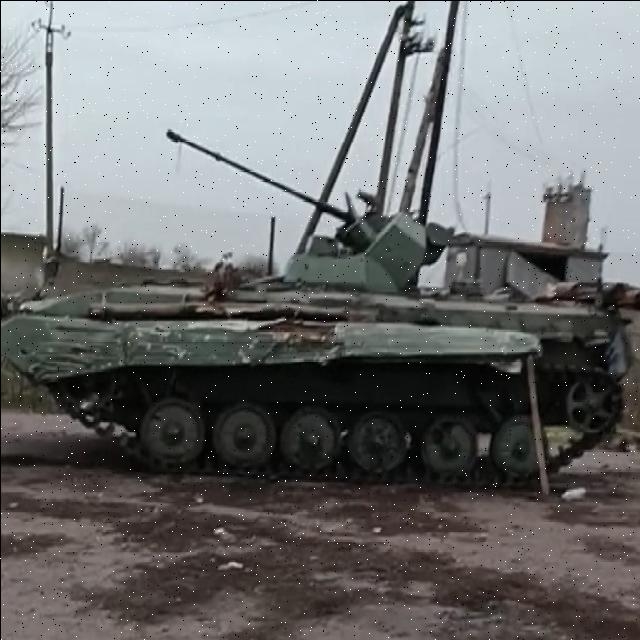APC-IFV: (0, 111, 626, 507)
